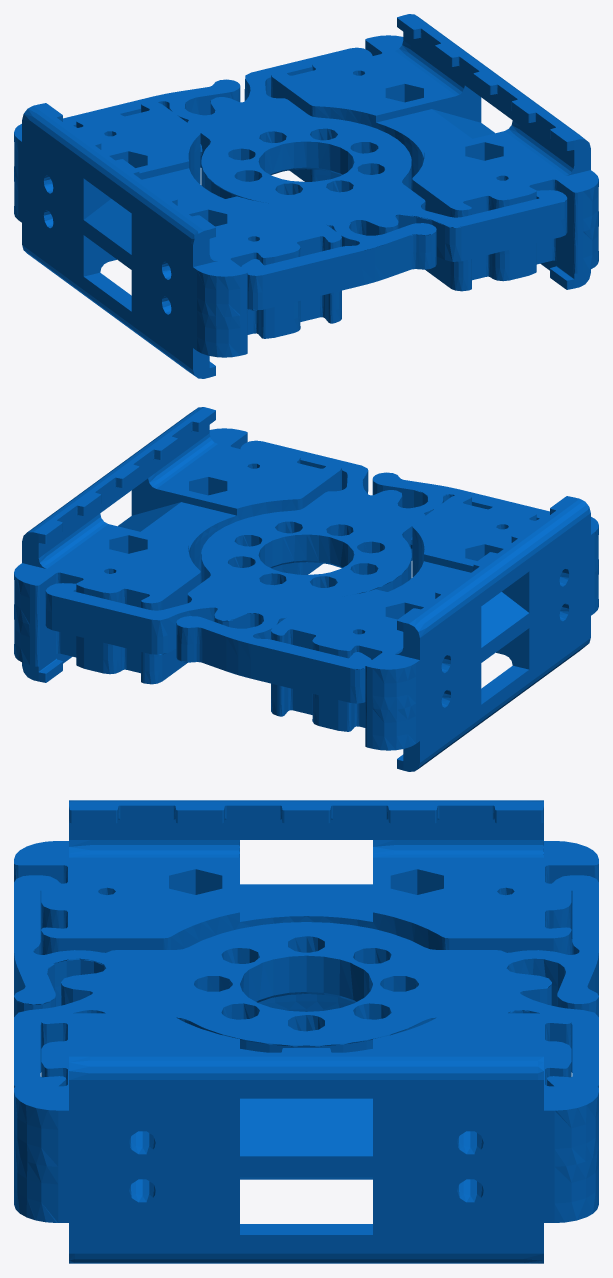
File: qb_double_flat_flange_m.dae
3 views of the same model, one above another, from view 1: azimuth 30°, elevation 25°; view 2: azimuth 150°, elevation 25°; view 3: azimuth 270°, elevation 25° (orthographic). The views are drawn at different scales.
Parts seen in each view (by area): view 1: Body_24, Body_1, Body_45; view 2: Body_24, Body_1, Body_45; view 3: Body_45, Body_24, Body_1.
Boxes of the visible parts, left/top/right/bottom form: Body_24: left=14, top=101, right=341, bottom=378; Body_1: left=63, top=47, right=567, bottom=310; Body_45: left=271, top=14, right=598, bottom=291; Body_24: left=271, top=494, right=598, bottom=771; Body_1: left=45, top=440, right=549, bottom=703; Body_45: left=14, top=407, right=341, bottom=684; Body_45: left=14, top=1013, right=598, bottom=1263; Body_24: left=14, top=800, right=598, bottom=1011; Body_1: left=14, top=875, right=598, bottom=1087.
Bounding box in the file's own units: 0.072 × 0.066 × 0.0256.
